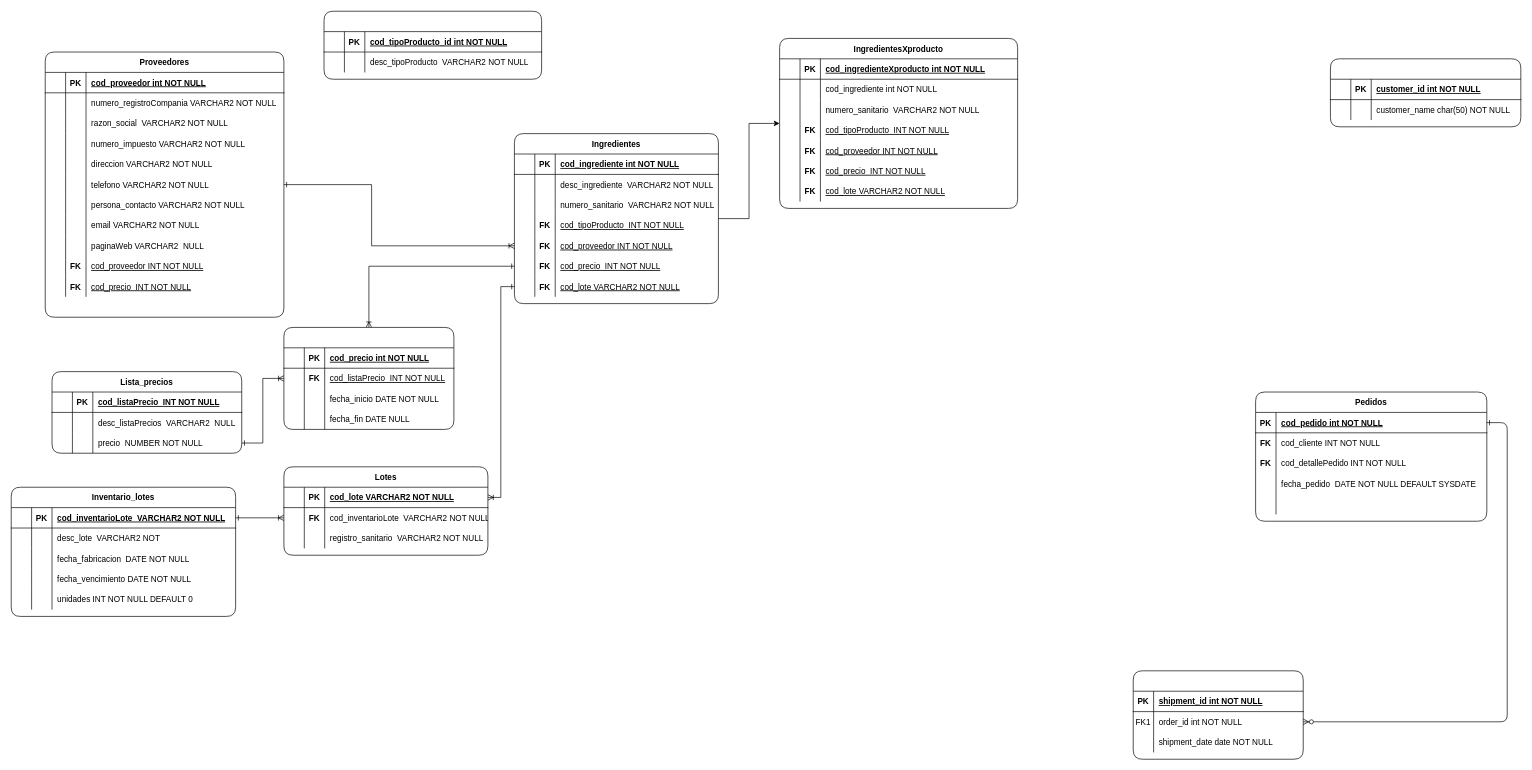
Image size: 1532x770. Some labels were removed from this diagram. Here are the shapes that lost their labels. From the top down, the box of each, then its label:
(323, 11, 542, 79): Tipo_Productos
(1330, 58, 1521, 127): Customers
(283, 327, 454, 429): Precios
(1133, 670, 1303, 759): Shipments
